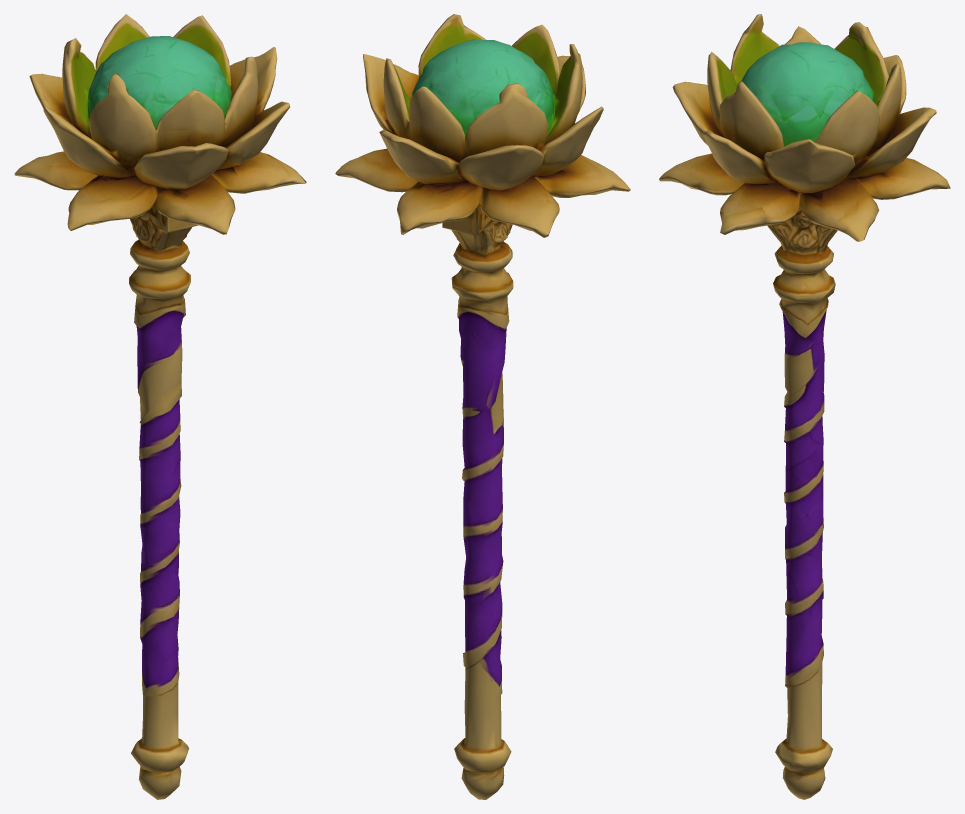
File: kimaya_scepter.glb
3 renders of one model, left to right at view 1: azimuth 30°, elevation 25°; view 2: azimuth 150°, elevation 25°; view 3: azimuth 270°, elevation 25°, orthographic.
Visible parts, largest first — view 1: tripo_node_15b7f509-6e77-42d1-af10-0bc17c920607; view 2: tripo_node_15b7f509-6e77-42d1-af10-0bc17c920607; view 3: tripo_node_15b7f509-6e77-42d1-af10-0bc17c920607.
Boxes of the visible parts, x1,y1,x2,y2 form: tripo_node_15b7f509-6e77-42d1-af10-0bc17c920607: (14,14,306,799); tripo_node_15b7f509-6e77-42d1-af10-0bc17c920607: (335,14,630,799); tripo_node_15b7f509-6e77-42d1-af10-0bc17c920607: (659,14,950,799).
Size of the model in its own units: 0.3314 by 1 by 0.3527.
1 material, 1 textured.
